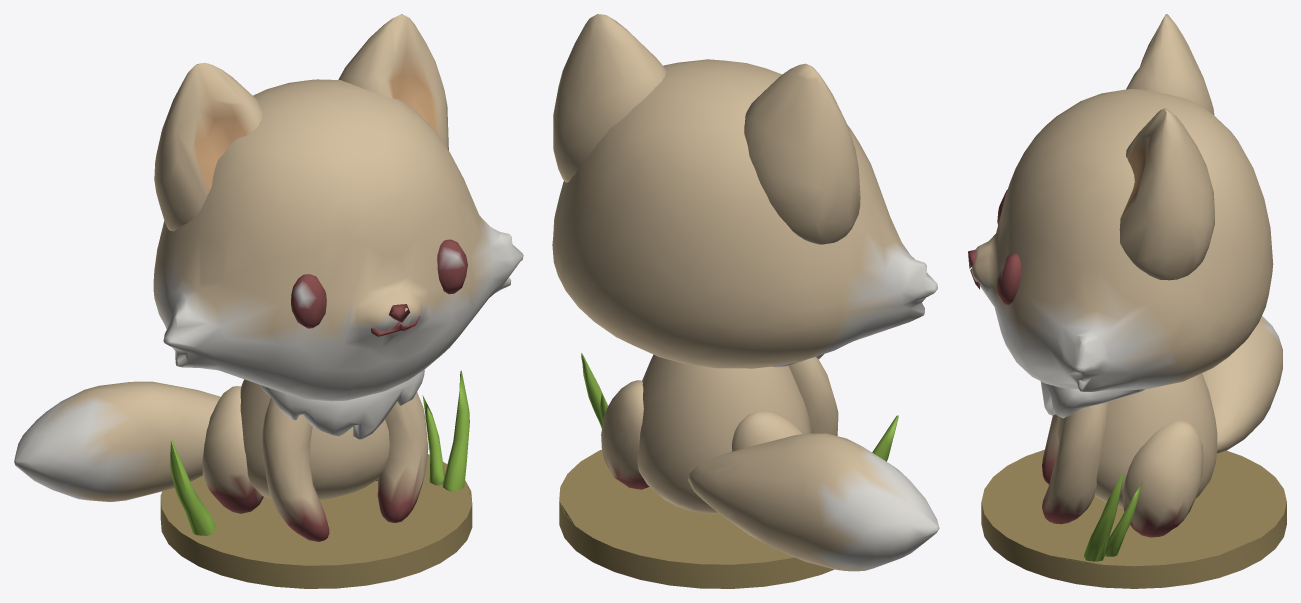
The model's file is cute-fox.lod.glb.
3 views of the same model, side by side, from view 1: azimuth 30°, elevation 25°; view 2: azimuth 150°, elevation 25°; view 3: azimuth 270°, elevation 25° (orthographic). The views are drawn at different scales.
Parts seen in each view (by area): view 1: Object_3, Object_25; view 2: Object_3, Object_25; view 3: Object_3, Object_25.
Boxes of the visible parts, box(x1,y1,x2,y2) form: Object_3: box(14, 14, 523, 541); Object_25: box(160, 454, 472, 588); Object_3: box(552, 14, 939, 571); Object_25: box(559, 449, 834, 588); Object_3: box(968, 14, 1282, 561); Object_25: box(981, 449, 1286, 588).
Bounding box in the file's own units: 3.52 × 3.67 × 2.3.
